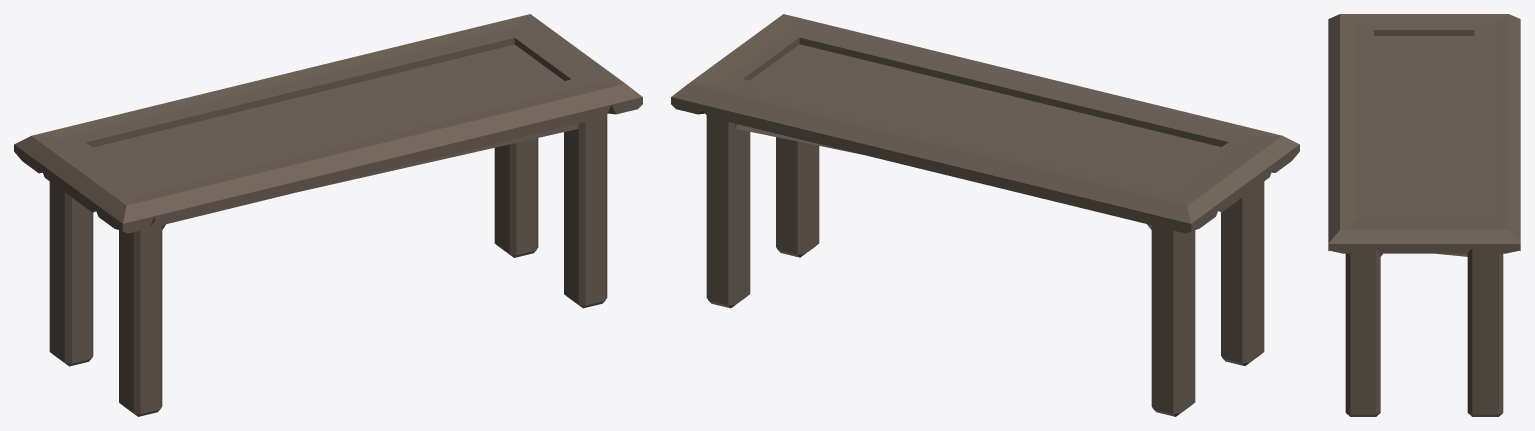
File: rectangleTable.fbx
3 renders of one model, left to right at view 1: azimuth 30°, elevation 25°; view 2: azimuth 150°, elevation 25°; view 3: azimuth 270°, elevation 25°, orthographic. The views are drawn at different scales.
Parts seen in each view (by area): view 1: table; view 2: table; view 3: table.
Boxes of the visible parts, x1,y1,x2,y2 form: table: (14, 14, 642, 416); table: (671, 14, 1299, 416); table: (1328, 14, 1520, 416).
Bounding box in the file's own units: 167 × 67.6 × 60.56.
